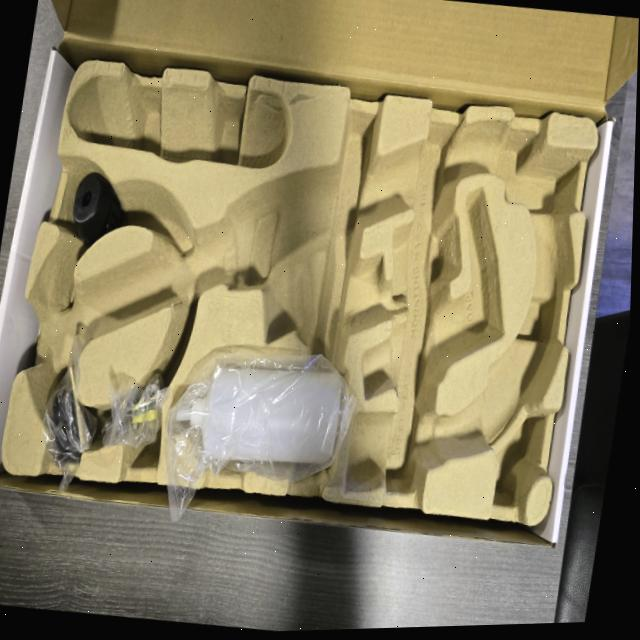1m: (12, 126, 570, 488)
2m: (362, 183, 500, 397)
3: (173, 364, 344, 463)
4m: (65, 77, 290, 167)
5: (71, 171, 118, 238)
6: (99, 365, 163, 451)
7: (37, 333, 99, 488)
